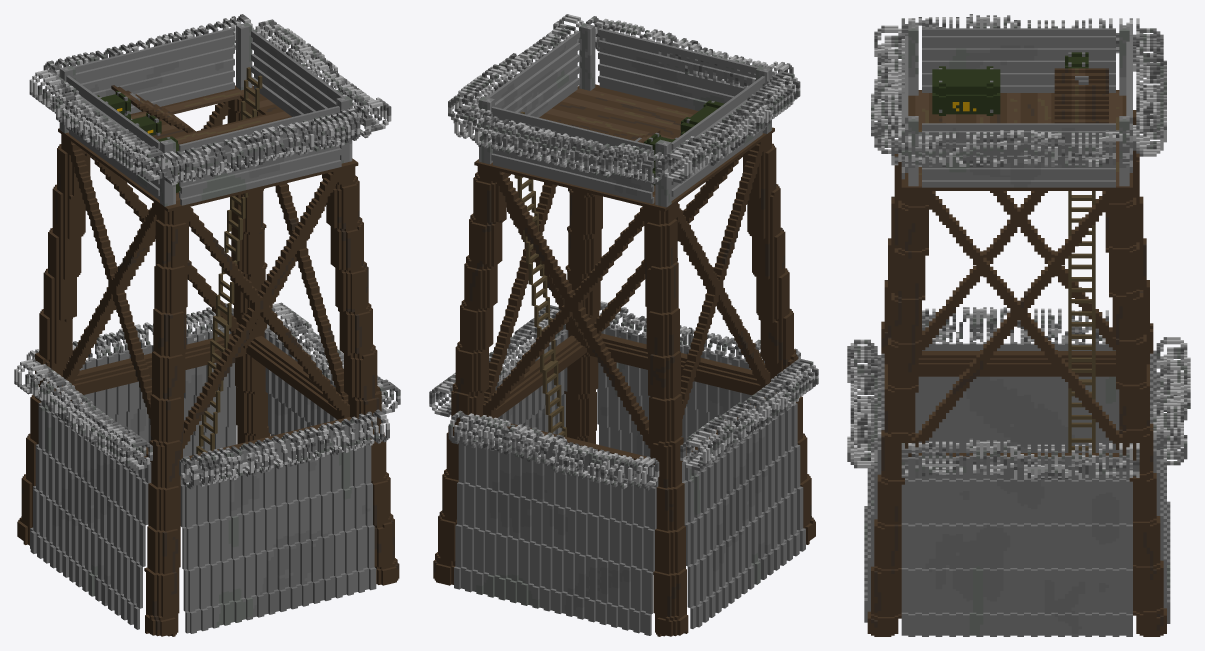
Rendered from sniper-tower.vox.obj.
The picture shows the model from 3 angles, left to right: view 1: azimuth 30°, elevation 25°; view 2: azimuth 150°, elevation 25°; view 3: azimuth 270°, elevation 25°; orthographic projection. The views are drawn at different scales.
Size of the model in its own units: 9.9 by 16.2 by 10.1.
1 material, 1 textured.
